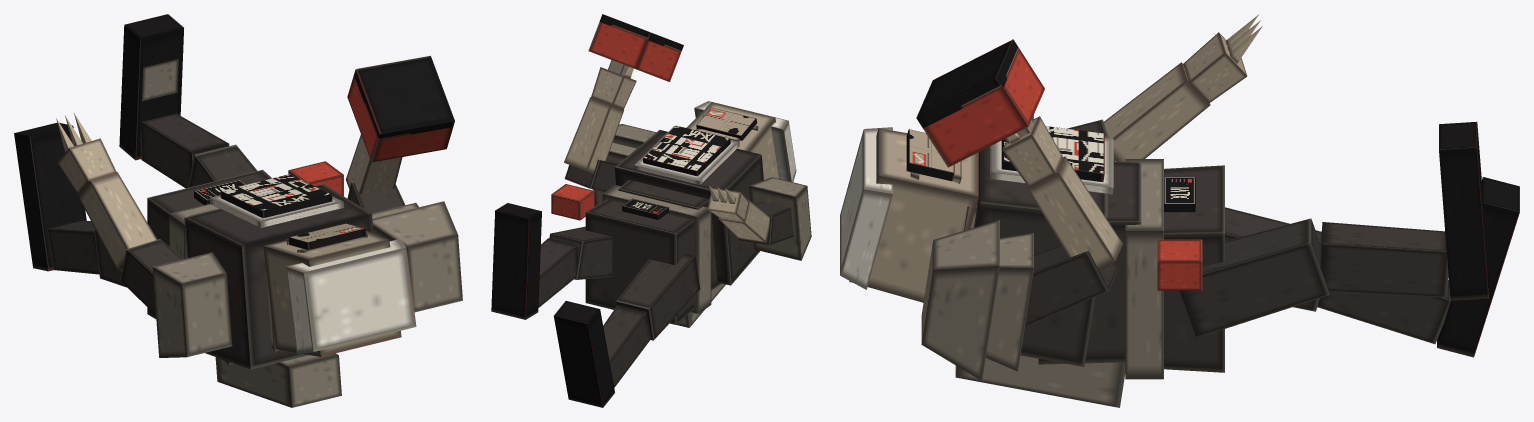
File: exceptor_move.obj
The picture shows the model from 3 angles, left to right: view 1: azimuth 30°, elevation 25°; view 2: azimuth 150°, elevation 25°; view 3: azimuth 270°, elevation 25°; orthographic projection. The views are drawn at different scales.
Parts seen in each view (by area): view 1: exceptor_move; view 2: exceptor_move; view 3: exceptor_move.
Boxes of the visible parts, x1,y1,x2,y2 form: exceptor_move: (14,14,462,407); exceptor_move: (491,14,811,407); exceptor_move: (840,14,1519,407).
Bounding box in the file's own units: 0.6095 × 0.6577 × 1.04.
Materials: 1 (1 with a texture image).
